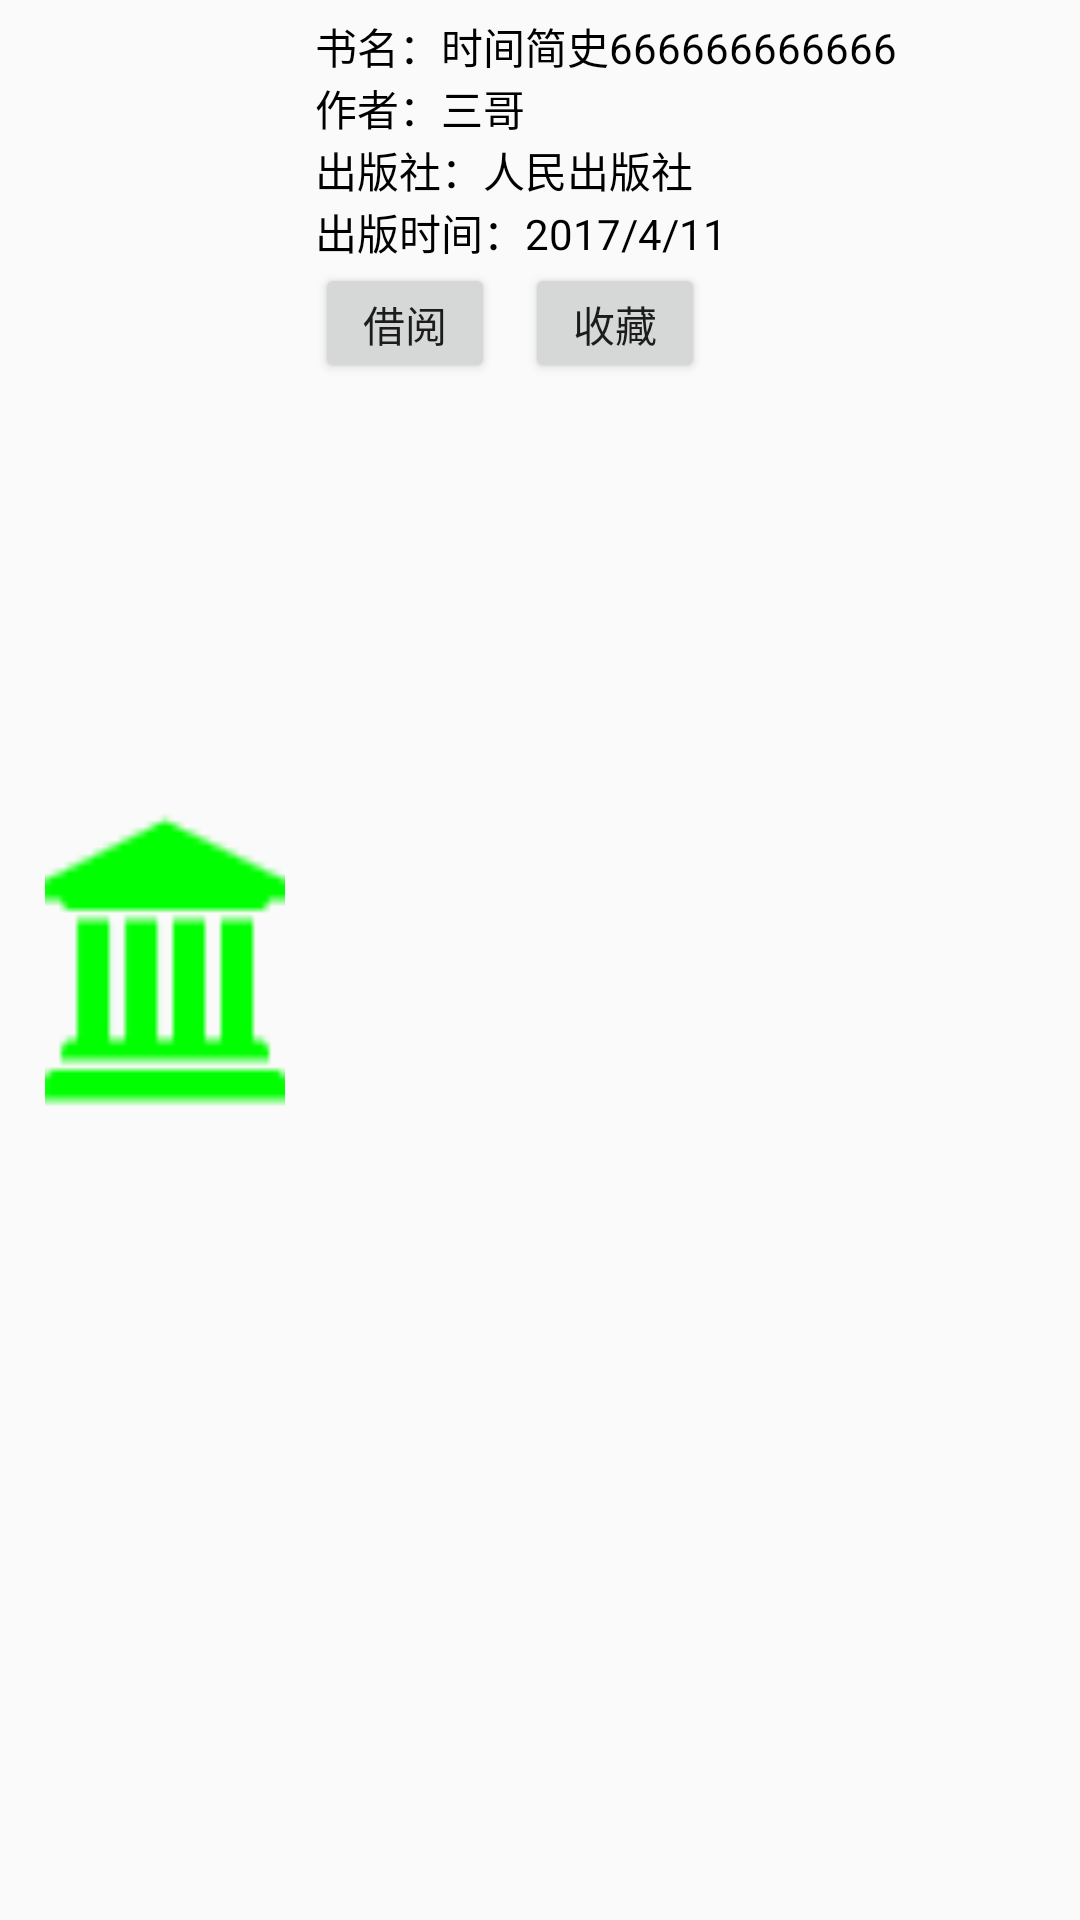

Icons on this 1080 × 1920 Android screen, each with its box as bbox=[x1, y1, x2, y2]:
librarygreen: bbox=[45, 815, 285, 1105]
